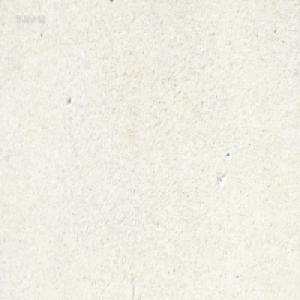Wrench: (108, 0, 115, 4)
